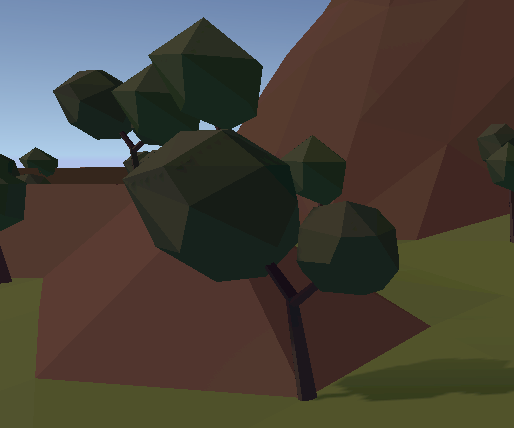tree: (127, 131, 416, 402), (145, 1, 275, 137), (53, 64, 183, 173), (476, 116, 514, 251), (1, 174, 39, 292), (1, 137, 58, 199)
